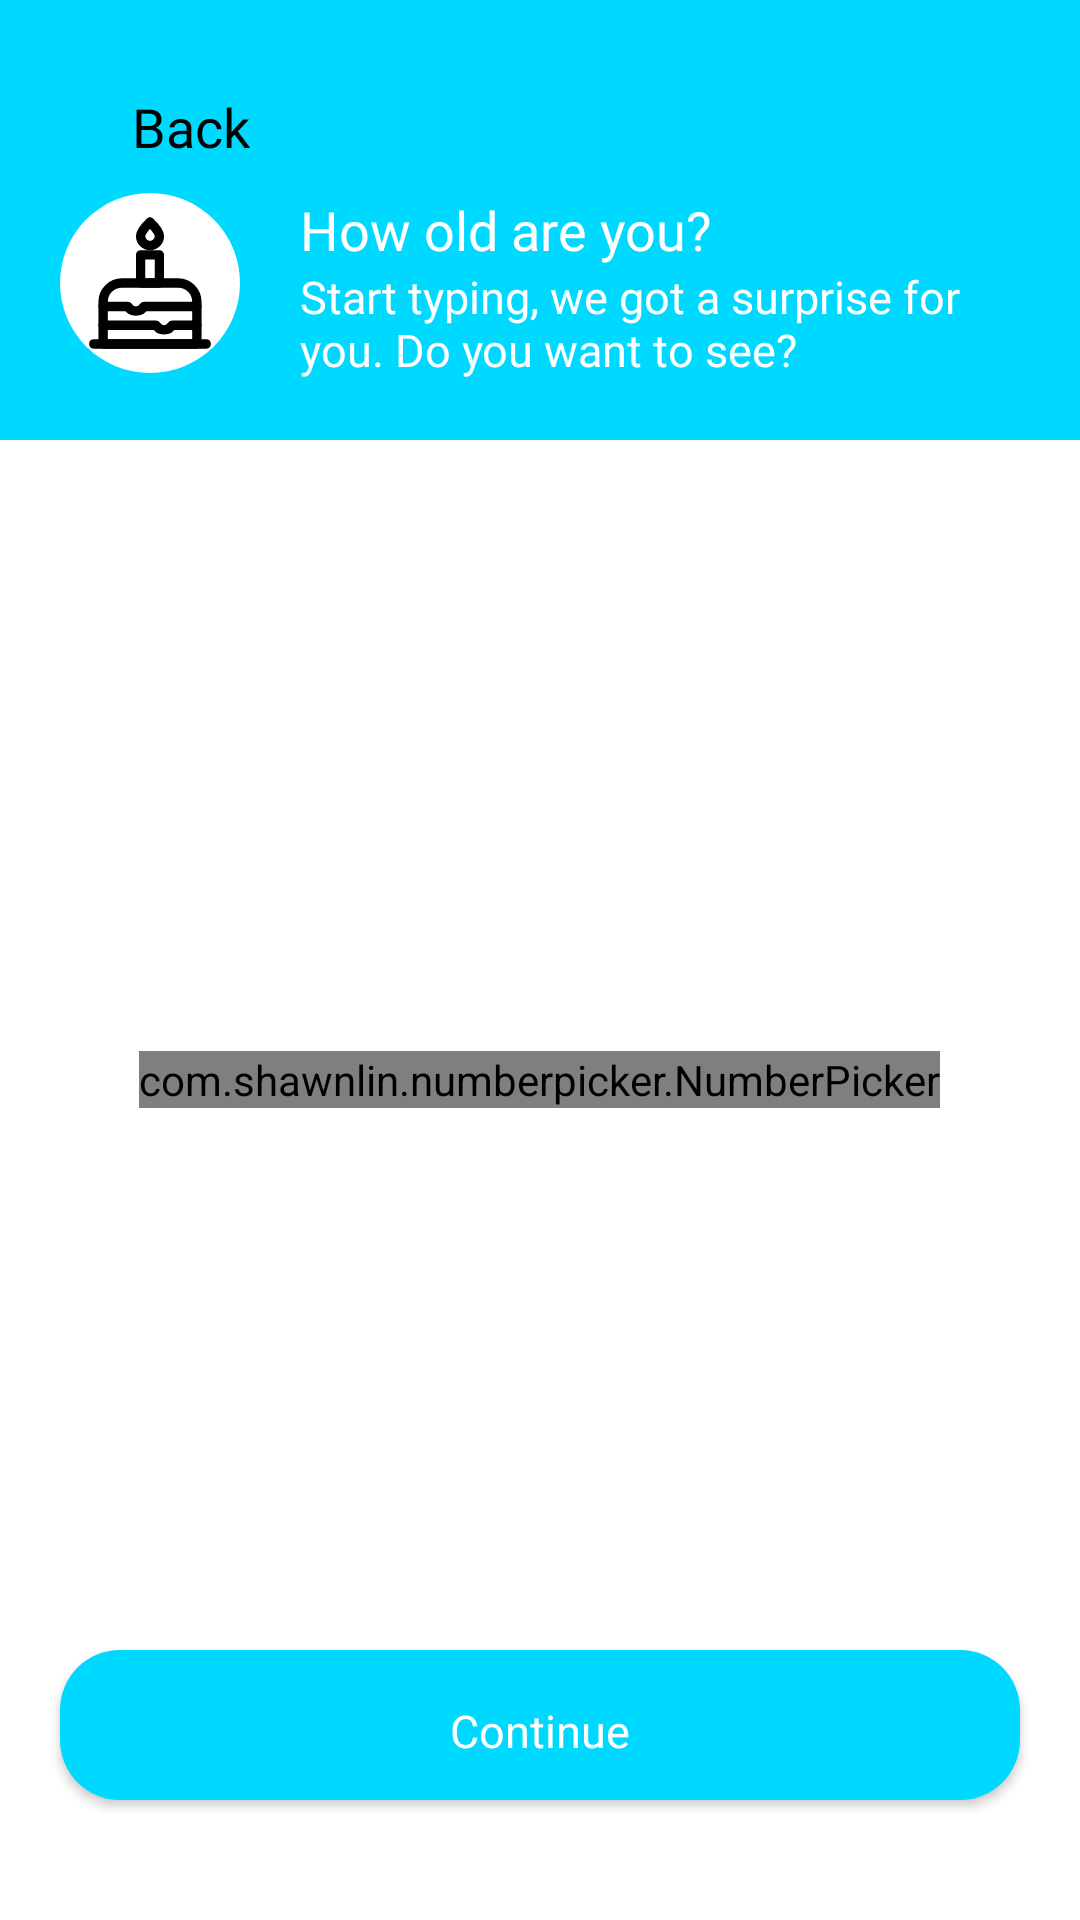

Icons on this 1080*1920 Android screen, each with the point to tap as point (x, y):
birth: point (150, 283)
